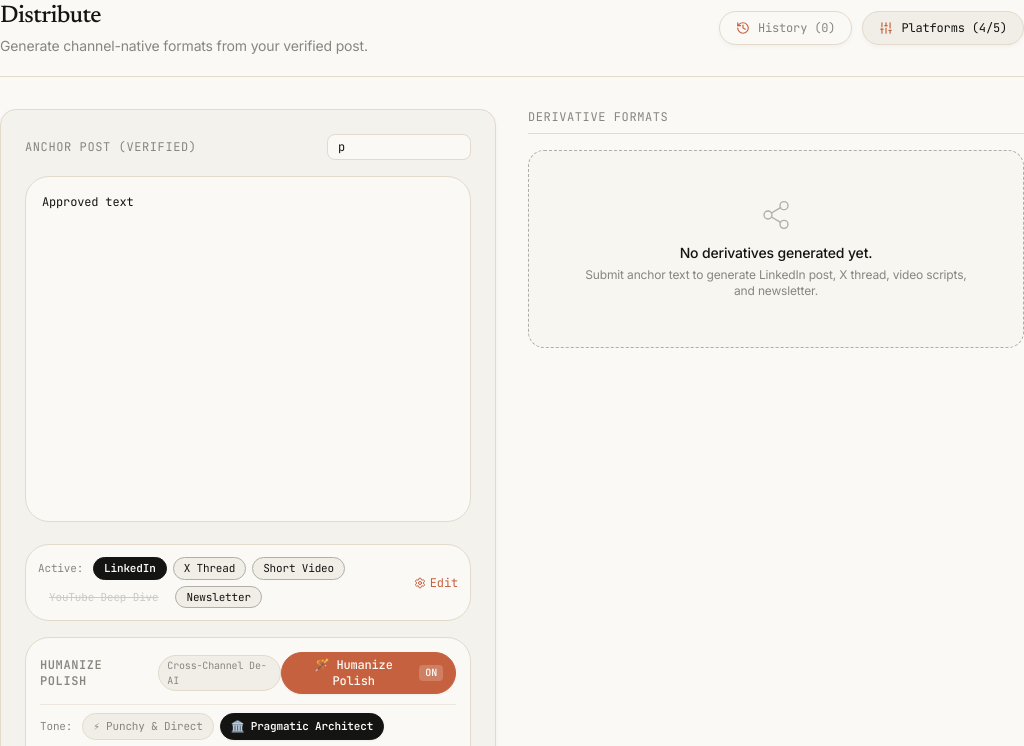
DistributeTab › is enabled for text approved upstream, and re-locks when edited
The width and height of the screenshot is (1024, 746).
Replace the text in the text box showing "Approved text" with "Approved text, tweaked": (248, 349) [25,176,471,522]
(page scrolled)
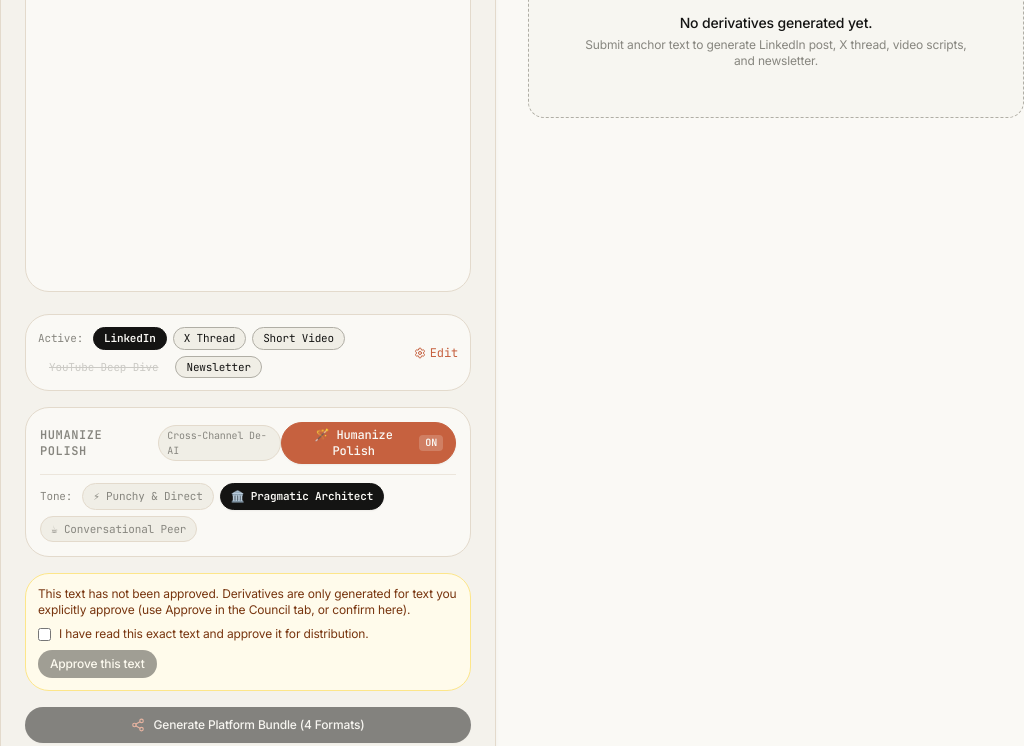
Check: the button "Generate Platform Bundle (4 Formats)" is disabled, box [25,707,471,743]
